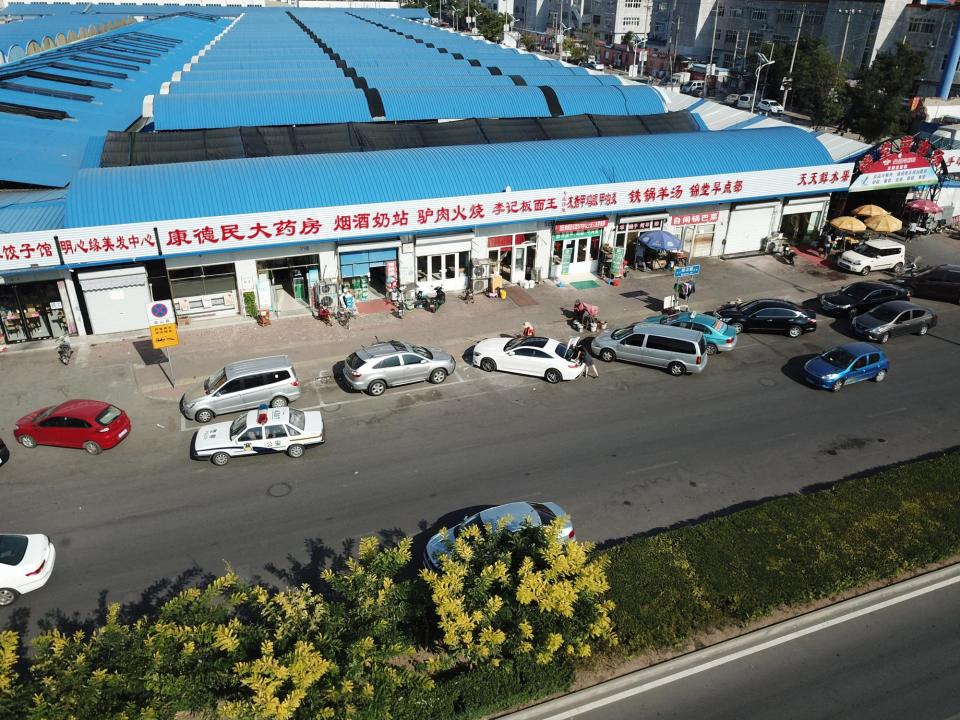car: (424, 500, 578, 568), (194, 404, 326, 468), (180, 355, 302, 418), (11, 396, 132, 454), (592, 320, 710, 376), (340, 340, 458, 395), (472, 334, 586, 384), (714, 296, 820, 338), (805, 340, 892, 391), (0, 532, 57, 608), (647, 310, 737, 357), (853, 301, 938, 343), (821, 280, 912, 312), (837, 240, 905, 274), (908, 261, 960, 303), (756, 99, 784, 115), (692, 86, 714, 98), (658, 75, 678, 88), (724, 94, 742, 106), (587, 61, 605, 71)
truck: (666, 72, 690, 90)
van: (681, 79, 704, 95), (738, 93, 756, 110), (578, 55, 594, 65), (526, 42, 542, 52)
